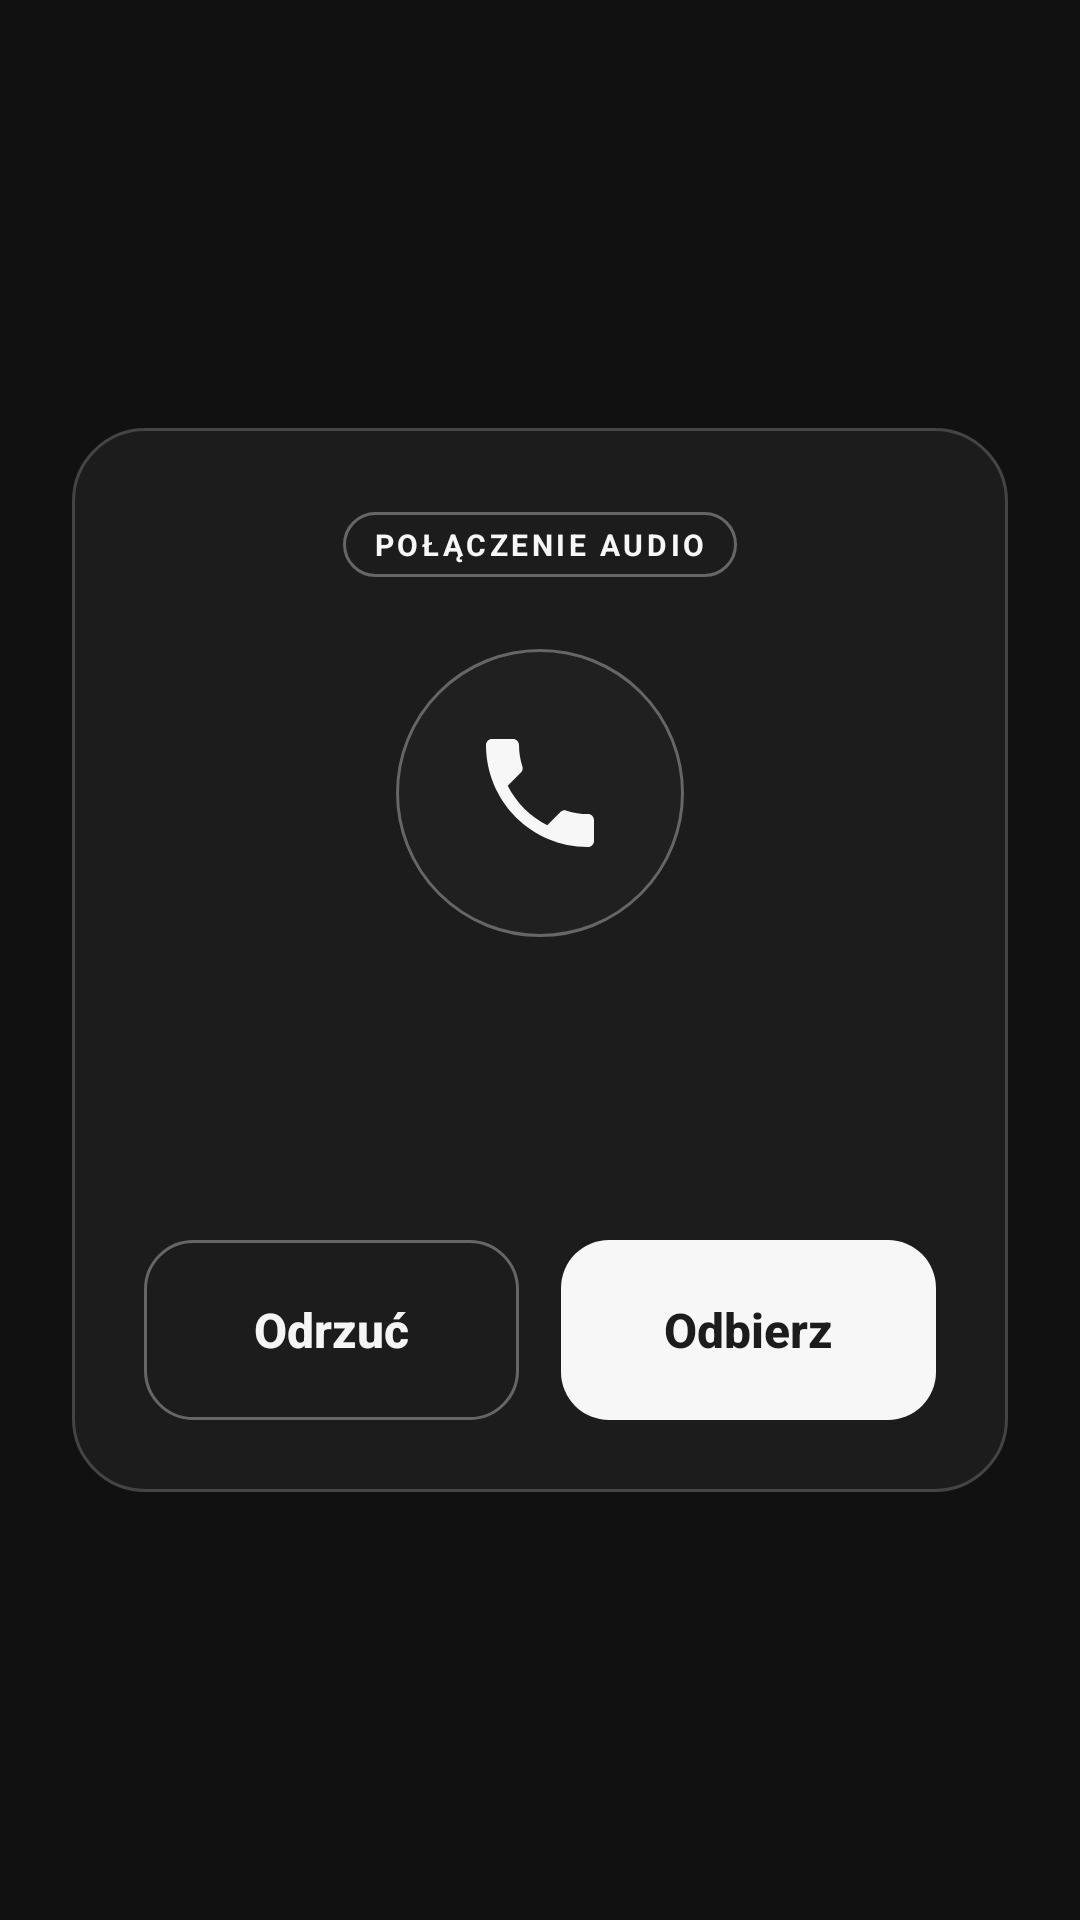

Where to tap for icons on this 1080 × 1920 app screen, as (x=x, y=y):
call: (x=540, y=793)
